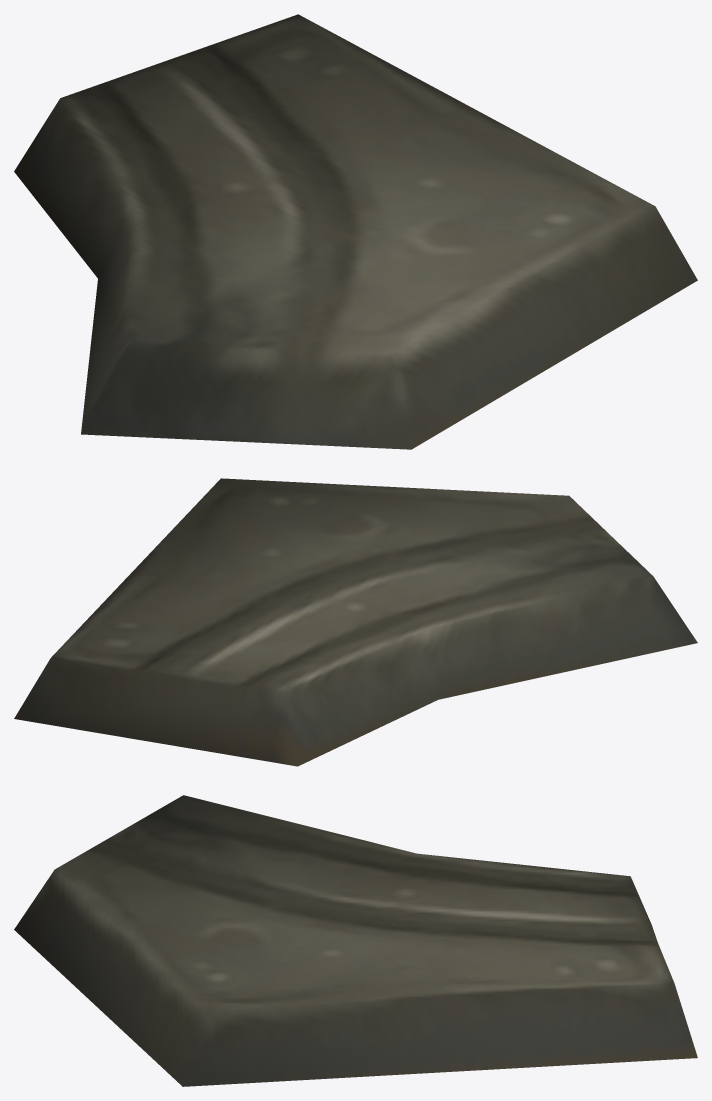
Rendered from sn_longmai_yuantai_004.FBX.
3 renders of one model, top to bottom at view 1: azimuth 30°, elevation 25°; view 2: azimuth 150°, elevation 25°; view 3: azimuth 270°, elevation 25°, orthographic. The views are drawn at different scales.
Visible parts, largest first — view 1: sn_longmai_yuantai_004; view 2: sn_longmai_yuantai_004; view 3: sn_longmai_yuantai_004.
Boxes of the visible parts, box(x1,y1,x2,y2) form: sn_longmai_yuantai_004: box(14, 14, 697, 449); sn_longmai_yuantai_004: box(14, 478, 697, 766); sn_longmai_yuantai_004: box(14, 795, 697, 1086).
Size of the model in its own units: 164 by 18.75 by 188.
